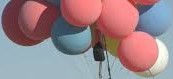Balloon: (117, 31, 158, 71), (52, 17, 92, 55), (18, 1, 55, 41), (99, 1, 139, 37), (60, 1, 101, 26)
